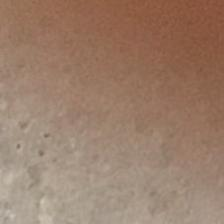Non_Crack: (16, 120, 224, 218)
